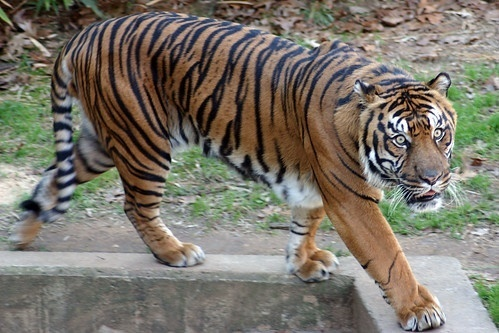tigre: (7, 12, 466, 333)
